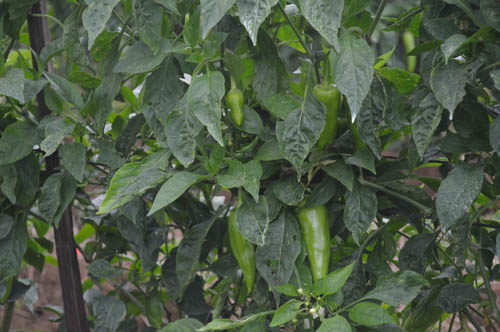ChiliPepper: (297, 202, 333, 284), (228, 212, 262, 290), (312, 86, 339, 145), (224, 90, 243, 125)
